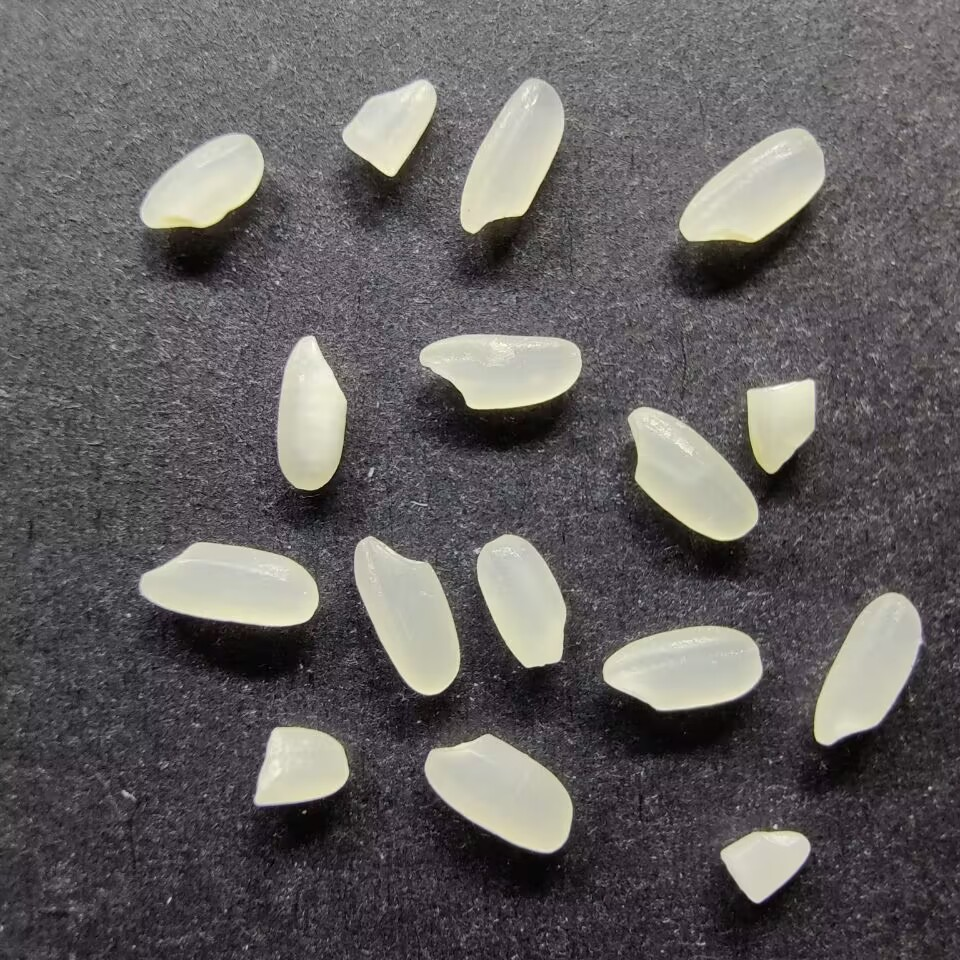broken: (339, 76, 440, 179), (248, 724, 351, 812), (715, 828, 812, 905), (743, 377, 819, 475)
rice: (421, 731, 576, 857), (625, 405, 760, 543), (351, 534, 463, 697), (678, 125, 826, 247), (810, 591, 923, 747), (458, 75, 565, 235), (135, 540, 319, 629), (600, 624, 764, 713), (474, 532, 571, 669), (416, 332, 583, 411), (139, 131, 265, 233), (273, 331, 348, 492)
